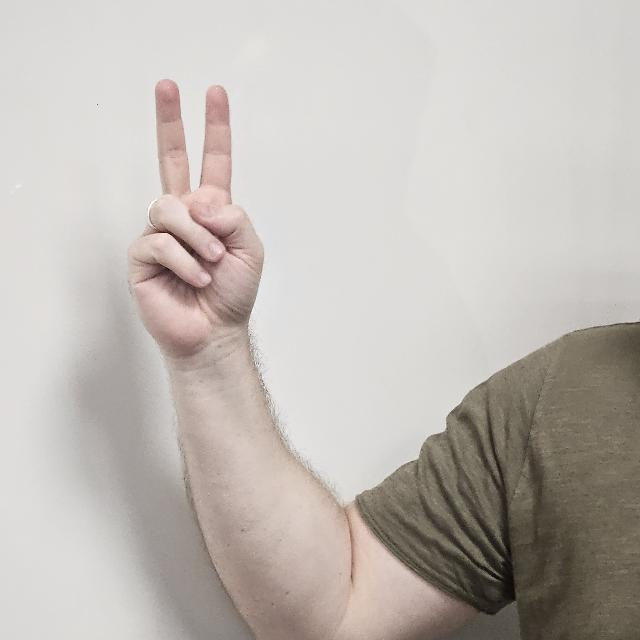Triangulo: (130, 80, 266, 370)
